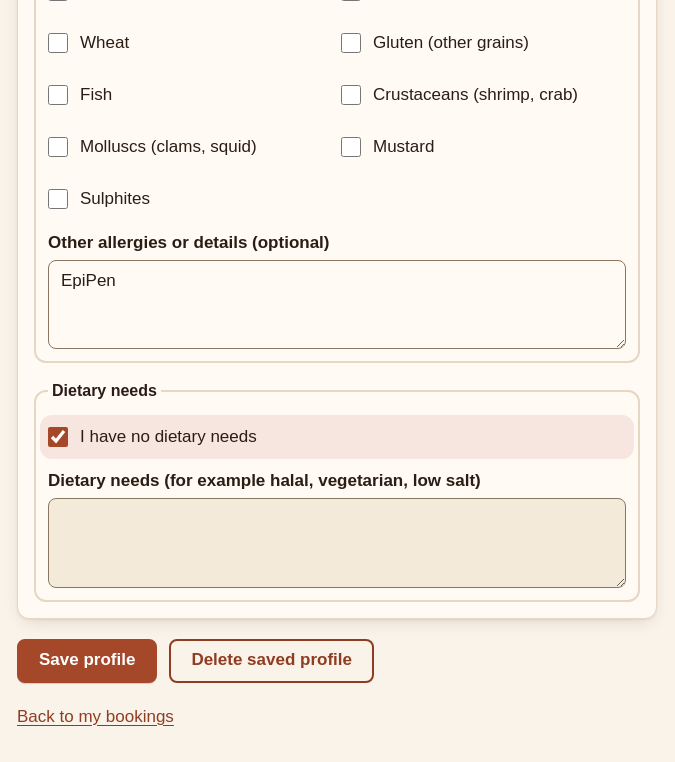
Test: SavedIntakeView › deletes only after a second, explicit press
This screenshot has width=675, height=762.
(page scrolled)
Click the button "Delete saved profile". click: (272, 661)
box: 169,639 -> 374,683
(page scrolled)
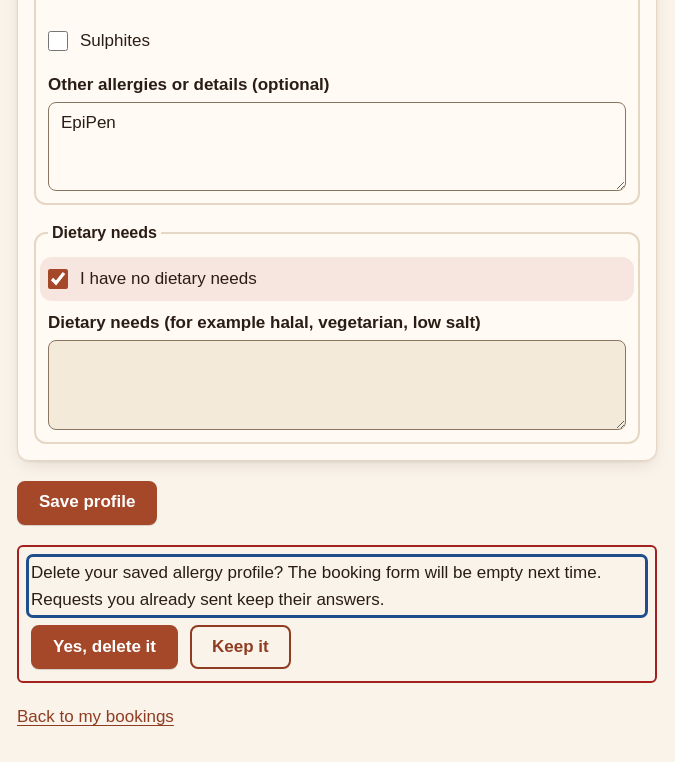
Click the button "Yes, delete it". click: (104, 647)
box: 31,625 -> 178,669
(page scrolled)
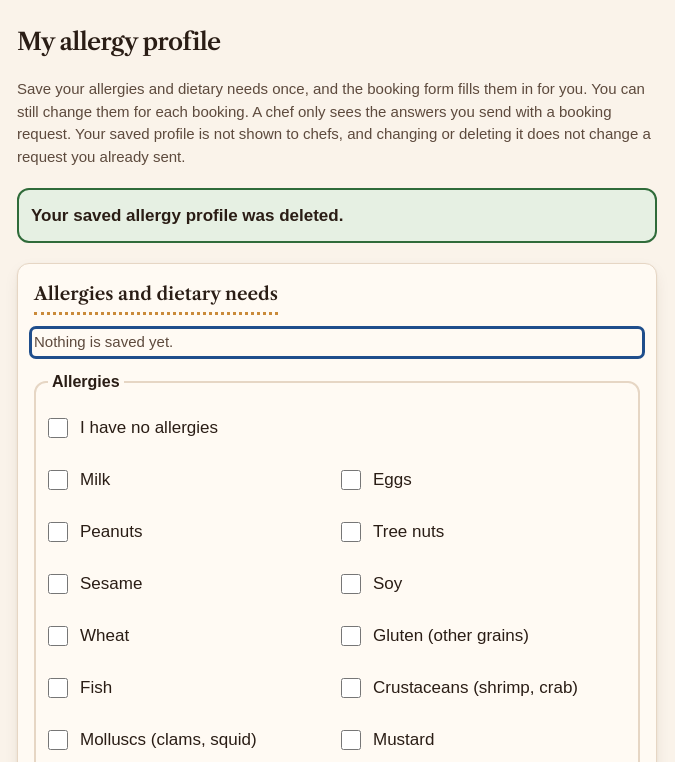
Expected: the checkbox labelled "Peanuts" is not checked, 48,522 -> 68,542
